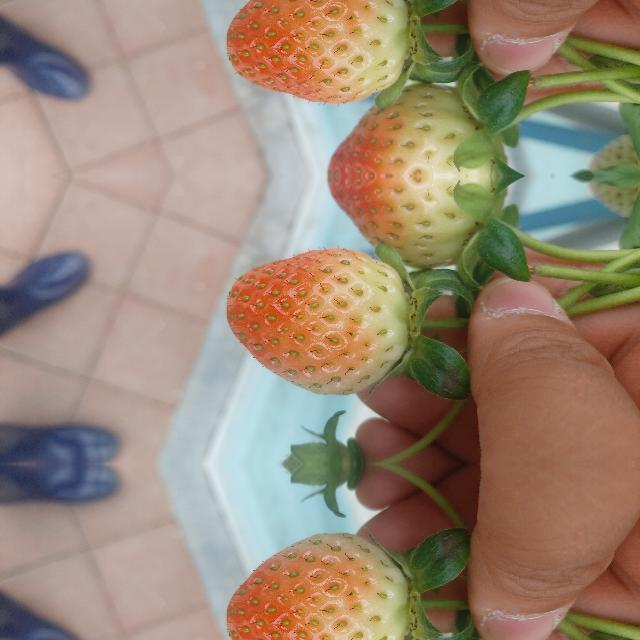Health_50: (324, 175, 506, 262), (324, 88, 506, 175)
Health_75: (226, 248, 408, 394), (226, 531, 407, 640), (226, 0, 407, 102)
